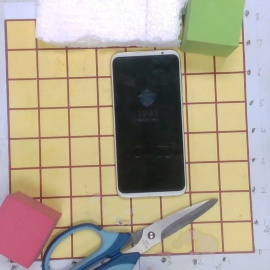phone: (109, 50, 190, 197)
